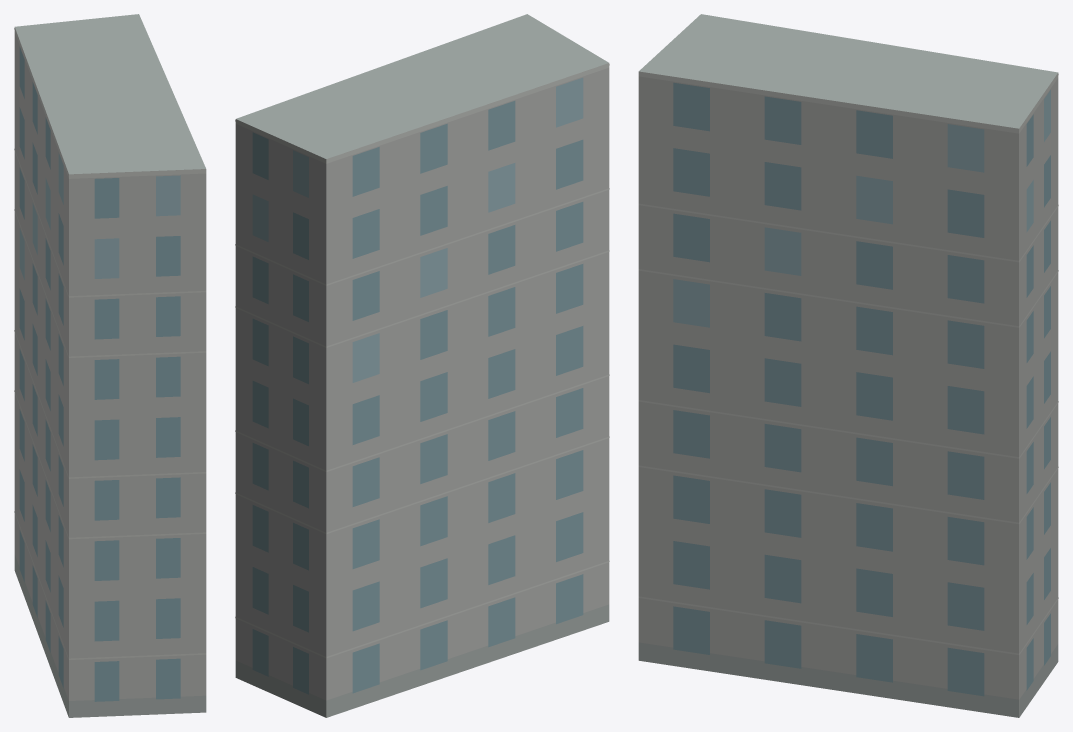
The model's file is survey-upis-32875236.glb.
3 renders of one model, left to right at view 1: azimuth 30°, elevation 25°; view 2: azimuth 150°, elevation 25°; view 3: azimuth 270°, elevation 25°, orthographic. The views are drawn at different scales.
Visible parts, largest first — view 1: survey-upis-32875236.tmp; view 2: survey-upis-32875236.tmp; view 3: survey-upis-32875236.tmp.
Boxes of the visible parts, x1,y1,x2,y2 form: survey-upis-32875236.tmp: [14, 14, 206, 717]; survey-upis-32875236.tmp: [235, 14, 609, 717]; survey-upis-32875236.tmp: [638, 14, 1058, 717].
Bounding box in the file's own units: 12.13 × 29 × 18.75.
